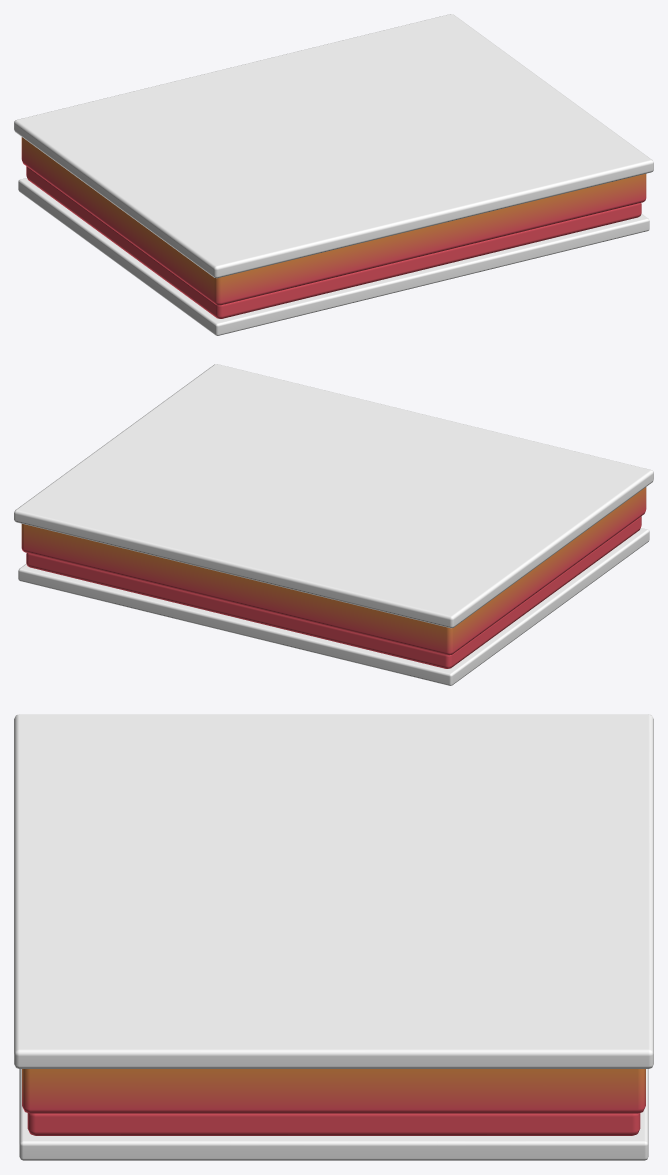
The model's file is house_roof_flat_rainbow.glb.
3 views of the same model, one above another, from view 1: azimuth 30°, elevation 25°; view 2: azimuth 150°, elevation 25°; view 3: azimuth 270°, elevation 25° (orthographic). The views are drawn at different scales.
Visible parts, largest first — view 1: house_roof_flat_rainbow_house_trim, house_roof_flat_rainbow_house_roof_rainbow; view 2: house_roof_flat_rainbow_house_trim, house_roof_flat_rainbow_house_roof_rainbow; view 3: house_roof_flat_rainbow_house_trim, house_roof_flat_rainbow_house_roof_rainbow.
Boxes of the visible parts, x1=… form: house_roof_flat_rainbow_house_trim: x1=14, y1=14, x2=653, y2=335; house_roof_flat_rainbow_house_roof_rainbow: x1=21, y1=137, x2=646, y2=318; house_roof_flat_rainbow_house_trim: x1=14, y1=364, x2=653, y2=685; house_roof_flat_rainbow_house_roof_rainbow: x1=21, y1=487, x2=646, y2=668; house_roof_flat_rainbow_house_trim: x1=14, y1=714, x2=653, y2=1160; house_roof_flat_rainbow_house_roof_rainbow: x1=22, y1=1069, x2=645, y2=1135.
Size of the model in its own units: 2.96 by 0.46 by 2.36.
